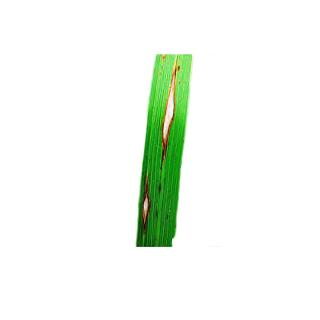Blast: (153, 59, 185, 172), (136, 173, 160, 238)
